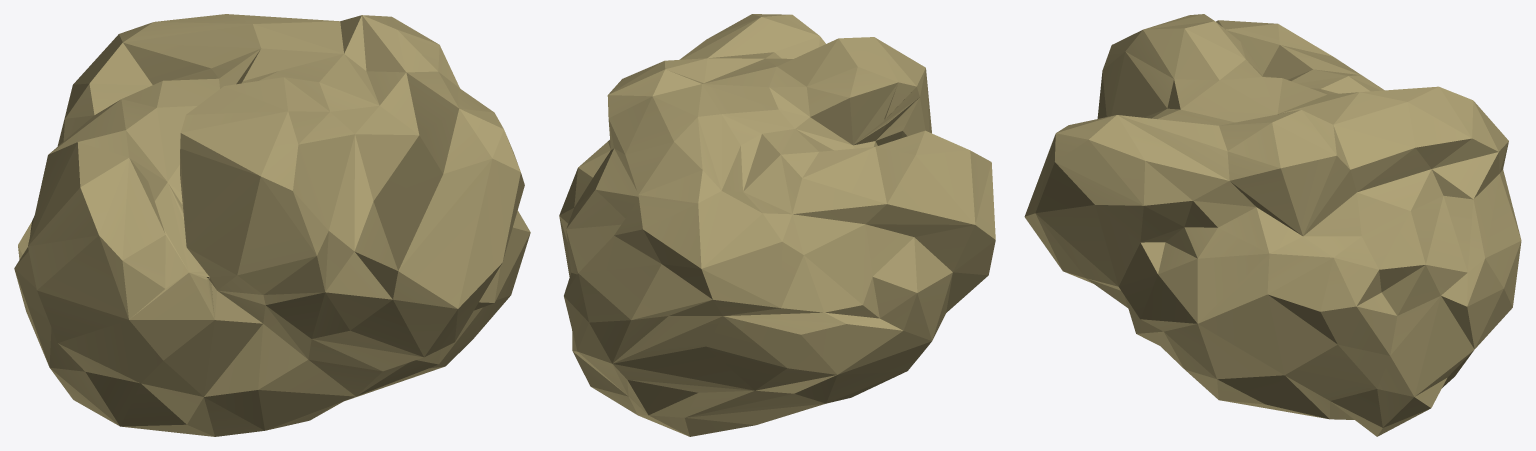
File: SM_rock_54.fbx
3 views of the same model, side by side, from view 1: azimuth 30°, elevation 25°; view 2: azimuth 150°, elevation 25°; view 3: azimuth 270°, elevation 25° (orthographic). The views are drawn at different scales.
Parts seen in each view (by area): view 1: rock_54; view 2: rock_54; view 3: rock_54.
Boxes of the visible parts, box(x1,y1,x2,y2) form: rock_54: box(14, 14, 530, 436); rock_54: box(559, 14, 995, 436); rock_54: box(1024, 14, 1521, 436).
Bounding box in the file's own units: 366 × 305 × 388.
